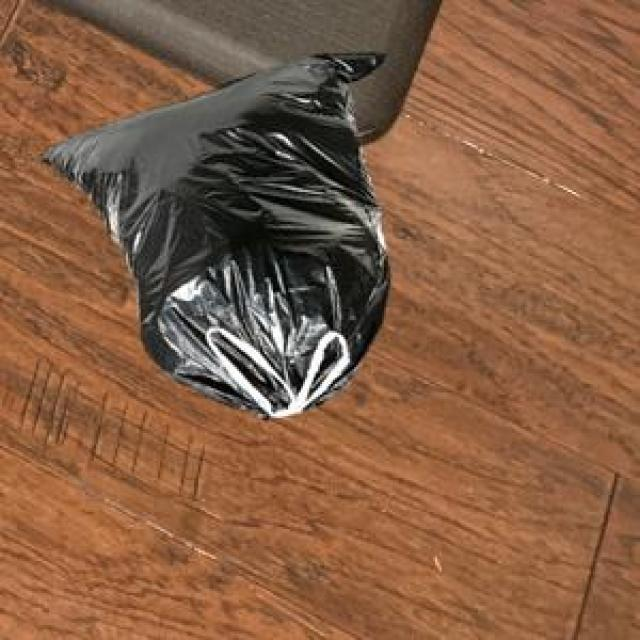Vinyl: (45, 54, 388, 417)
